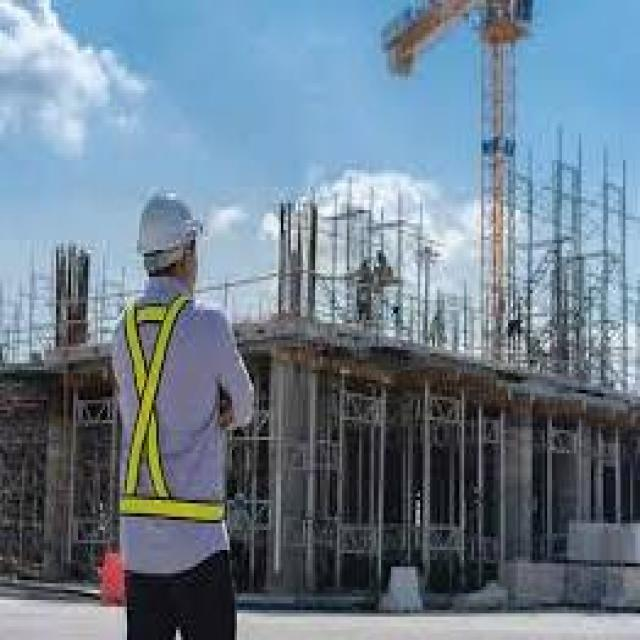Reflective-Jacket: (100, 283, 247, 547)
Safety-Helmet: (122, 180, 215, 273)
